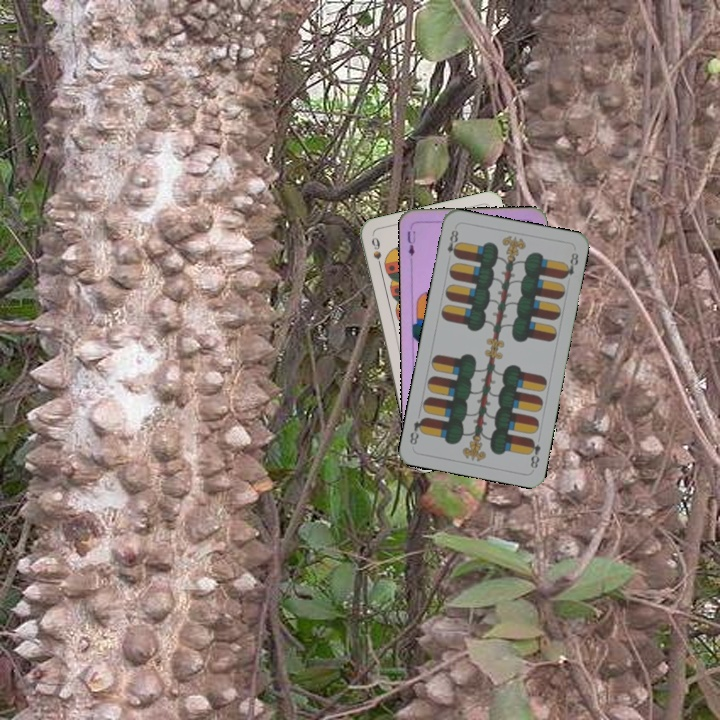E8: (524, 434, 543, 471), (443, 224, 462, 260)
EU: (404, 227, 418, 259)
S9: (367, 233, 385, 273)
